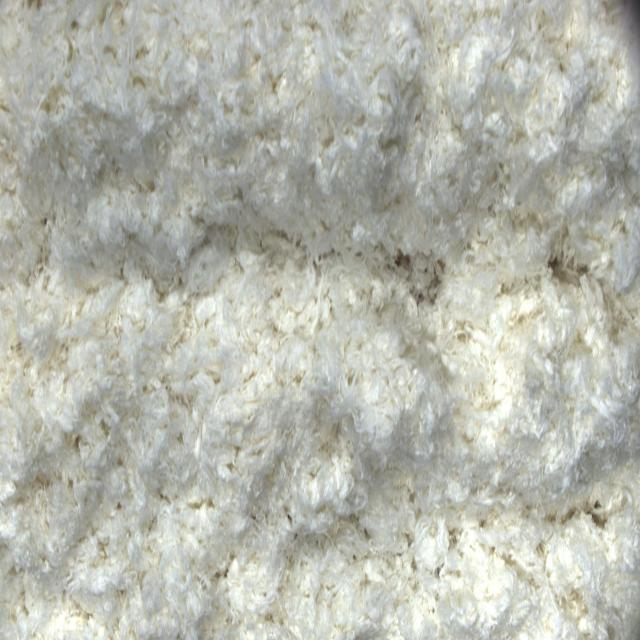dust: (399, 252, 443, 302), (556, 255, 588, 301)
